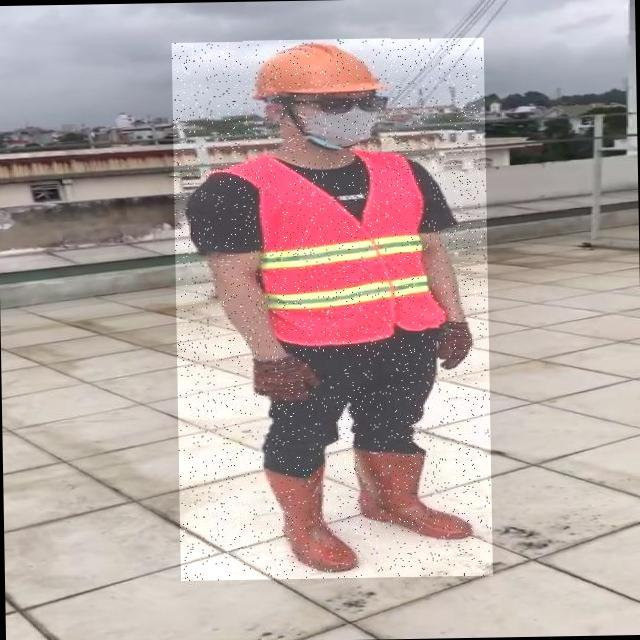Gloves: (251, 355, 322, 406), (437, 318, 472, 368)
Helmet: (242, 38, 391, 101)
Human: (172, 38, 493, 581)
Safety Boot: (350, 445, 474, 541), (264, 464, 359, 572)
Safety Vest: (256, 147, 441, 346)
